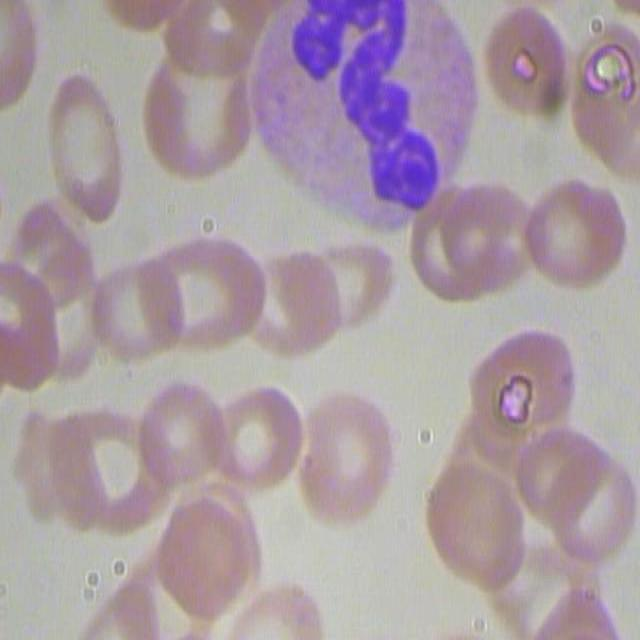RBC: (23, 378, 174, 540), (128, 477, 259, 637), (510, 419, 637, 577), (420, 410, 524, 590), (464, 315, 575, 463), (140, 51, 260, 184), (408, 172, 521, 311), (296, 382, 402, 525), (147, 227, 260, 361), (555, 3, 637, 184), (202, 374, 306, 504), (516, 173, 624, 296), (46, 75, 128, 236), (478, 0, 572, 130), (86, 246, 182, 368), (156, 0, 269, 78), (1, 256, 56, 402), (526, 584, 630, 640), (0, 0, 39, 105)
WBC: (272, 12, 475, 213)
